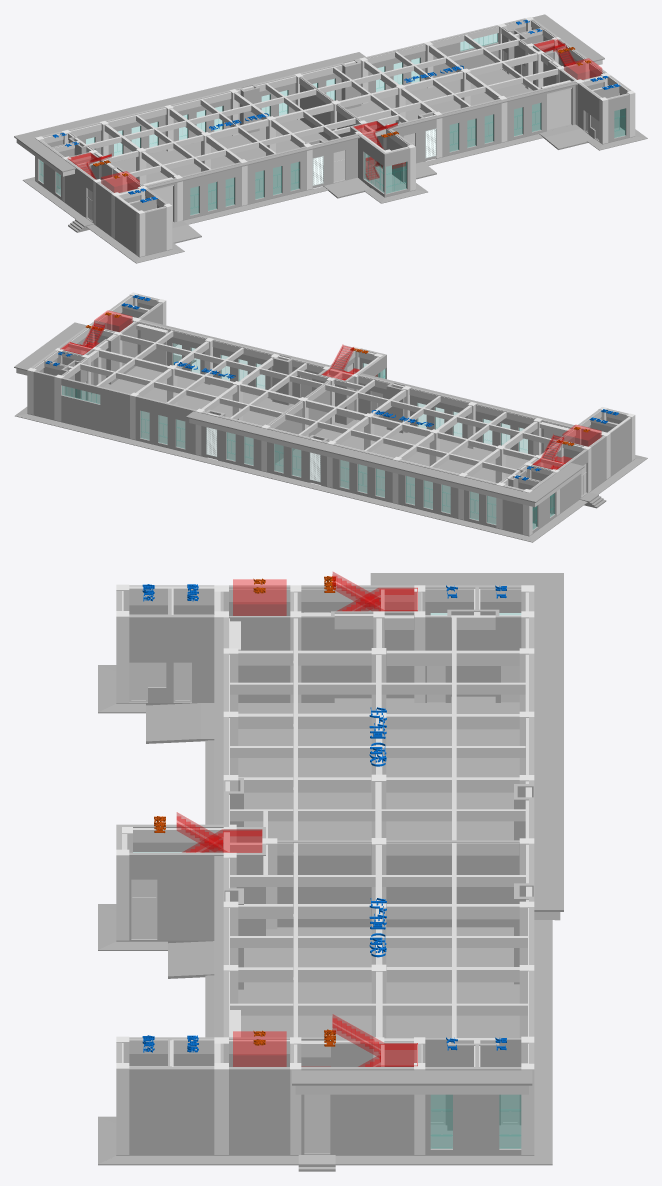
3 views of the same model, one above another, from view 1: azimuth 30°, elevation 25°; view 2: azimuth 150°, elevation 25°; view 3: azimuth 270°, elevation 25° (orthographic). The views are drawn at different scales.
Parts seen in each view (by area): view 1: Floor-Slab-150mm-01, Floor-Slab-120mm-01, Beam-JXL-250*600mm-06, Beam-JXL-250*600mm-08, Floor-Slab-LBBY-02, Wall-300mm-24, Wall-300mm-17, Wall-300mm-25, Wall-300mm-03, Wall-300mm-16, Wall-300mm-07, Wall-300mm-23 (+45 smaller); view 2: Floor-Slab-150mm-01, Floor-Slab-120mm-01, Floor-Slab-LBBY-02, Wall-300mm-03, Wall-300mm-07, Beam-JXL-250*600mm-06, Beam-JXL-250*600mm-08, Wall-300mm-06, Beam-JXL-300*750mm-07, Wall-300mm-04, Wall-300mm-44, Wall-300mm-08 (+34 smaller); view 3: Floor-Slab-150mm-01, Floor-Slab-120mm-01, Floor-Slab-LBBY-02, Wall-300mm-12, Wall-200mm-31, Wall-300mm-19, Wall-300mm-10, Wall-300mm-27, Wall-300mm-11, Wall-200mm-30, Wall-300mm-09, Beam-JXL-250*600mm-07 (+62 smaller).
Boxes of the visible parts, x1,y1,x2,y2 form: Floor-Slab-150mm-01: (35, 70, 634, 257); Floor-Slab-120mm-01: (14, 14, 604, 189); Beam-JXL-250*600mm-06: (87, 39, 518, 148); Beam-JXL-250*600mm-08: (128, 68, 558, 177); Floor-Slab-LBBY-02: (22, 134, 647, 263); Wall-300mm-24: (246, 146, 306, 204); Wall-300mm-17: (441, 99, 501, 156); Wall-300mm-25: (182, 162, 241, 220); Wall-300mm-03: (105, 87, 241, 157); Wall-300mm-16: (506, 80, 575, 140); Wall-300mm-07: (430, 25, 498, 77); Wall-300mm-23: (322, 134, 357, 185); Floor-Slab-150mm-01: (27, 366, 634, 536); Floor-Slab-120mm-01: (14, 319, 584, 502); Floor-Slab-LBBY-02: (15, 343, 646, 542); Wall-300mm-03: (321, 441, 459, 518); Wall-300mm-07: (61, 377, 130, 438); Beam-JXL-250*600mm-06: (80, 363, 517, 474); Beam-JXL-250*600mm-08: (120, 334, 555, 444); Wall-300mm-06: (135, 395, 196, 454); Beam-JXL-300*750mm-07: (189, 418, 532, 506); Wall-300mm-04: (218, 415, 261, 470); Wall-300mm-44: (267, 427, 309, 481); Wall-300mm-08: (33, 371, 55, 420); Floor-Slab-150mm-01: (116, 696, 534, 1155); Floor-Slab-120mm-01: (214, 573, 563, 1085); Floor-Slab-LBBY-02: (98, 665, 552, 1165); Wall-300mm-12: (129, 1067, 214, 1154); Wall-200mm-31: (386, 840, 519, 927); Wall-300mm-19: (129, 852, 223, 940); Wall-300mm-10: (301, 1067, 414, 1154); Wall-300mm-27: (129, 615, 214, 702); Wall-300mm-11: (229, 1067, 290, 1154); Wall-200mm-30: (277, 840, 371, 927); Wall-300mm-09: (425, 1067, 521, 1154); Beam-JXL-250*600mm-07: (230, 682, 525, 694).
Bounding box in the file's own units: 65.7 × 7.47 × 25.19.
